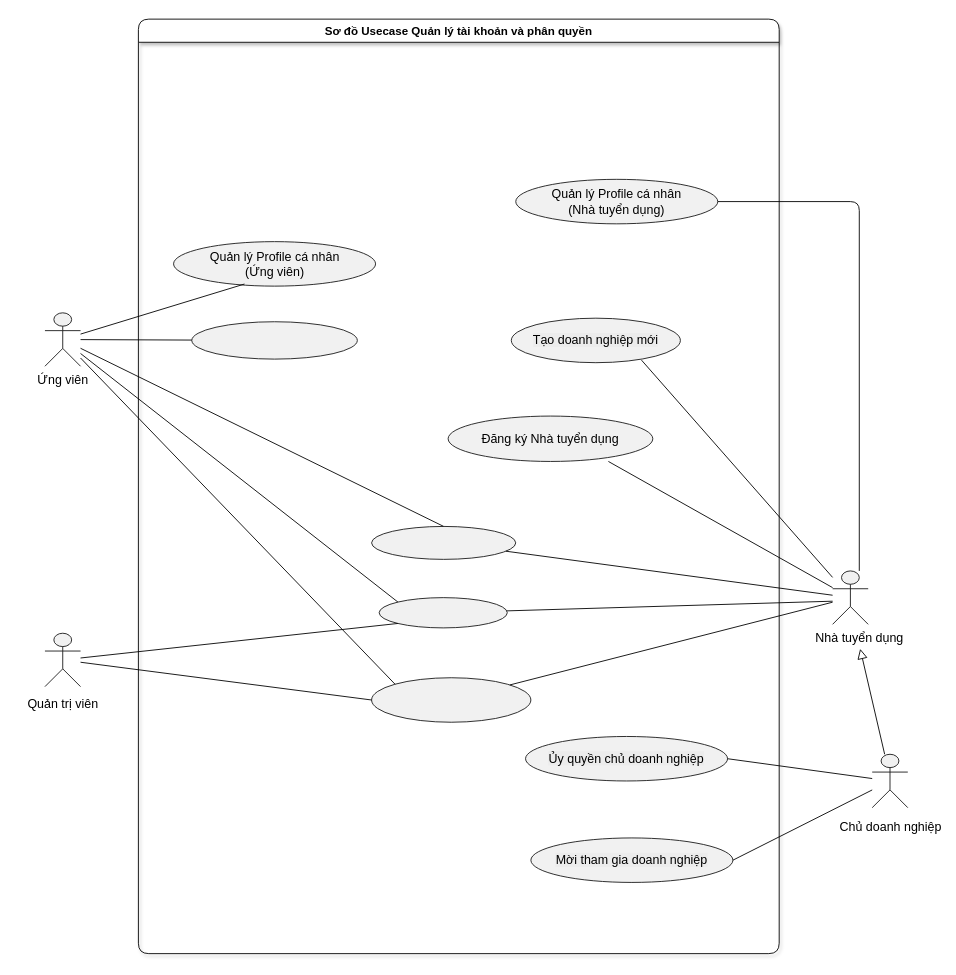
Some shapes in this 956 by 975 pixel diagram are drawn without their labels. The shapes that lost their labels are listed below. From the top down, each one's centre as x and y in pixels, then its label:
the point at 274,340: Đăng ký Ứng viên
the point at 443,542: Đổi mật khẩu
the point at 442,612: Đăng xuất
the point at 451,699: Đăng nhập
